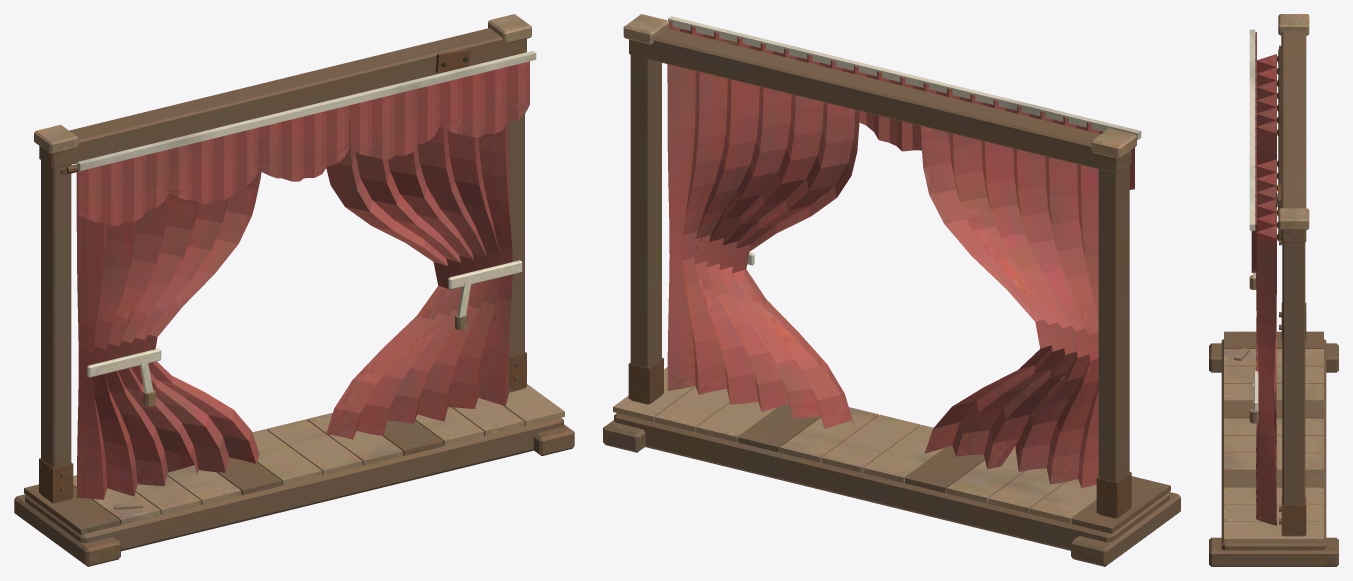
File: Q20_small_stage_curtains.glb
3 renders of one model, left to right at view 1: azimuth 30°, elevation 25°; view 2: azimuth 150°, elevation 25°; view 3: azimuth 270°, elevation 25°, orthographic. The views are drawn at different scales.
Parts seen in each view (by area): view 1: Stage foundation; view 2: Stage foundation; view 3: Stage foundation.
Part boxes in pixels (x1=…): Stage foundation: x1=14, y1=14, x2=574, y2=566; Stage foundation: x1=603, y1=14, x2=1180, y2=566; Stage foundation: x1=1209, y1=14, x2=1338, y2=566.
Bounding box in the file's own units: 5 × 3.86 × 1.31.
Materials: 7 (7 with a texture image).
